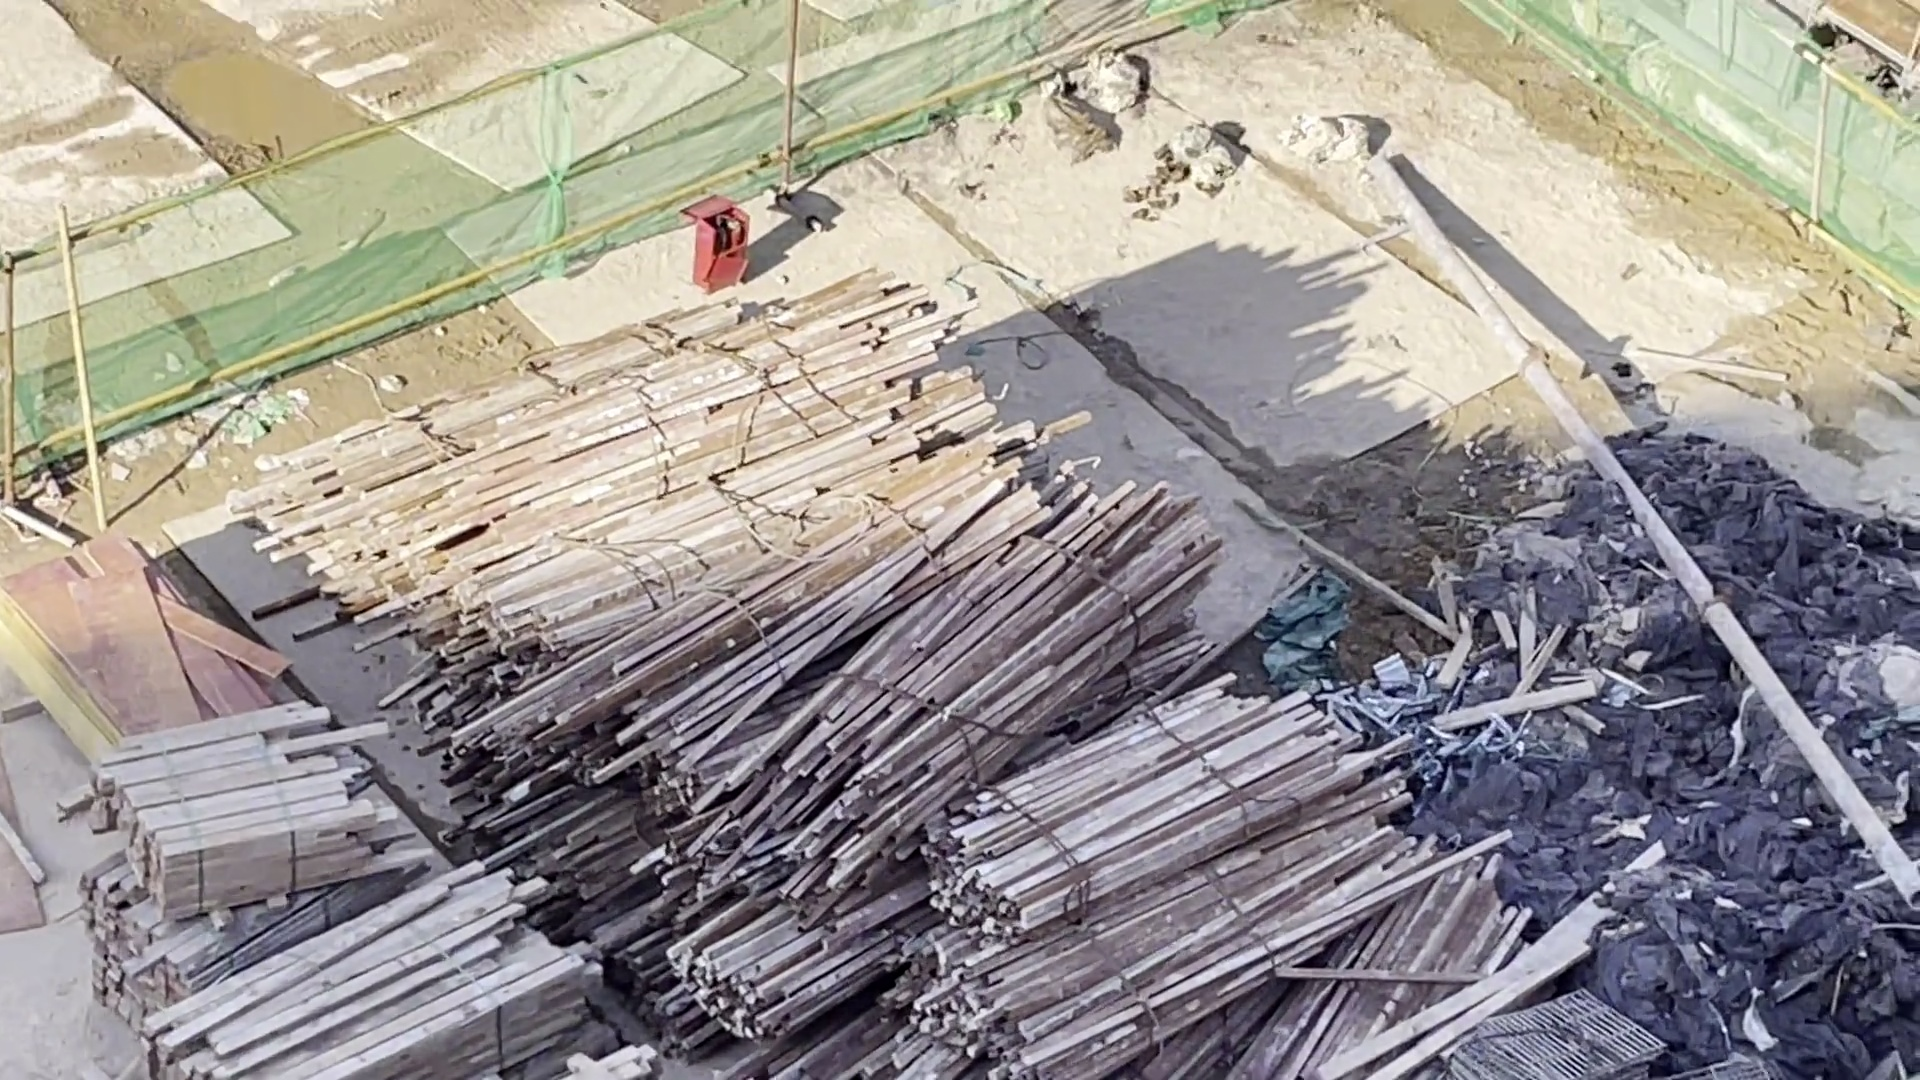board: (32, 559, 261, 732)
wood: (724, 476, 1222, 891), (327, 305, 969, 597), (233, 302, 760, 509), (953, 855, 1429, 1072), (462, 436, 907, 661), (935, 707, 1374, 894), (185, 938, 550, 1080), (83, 732, 367, 909), (671, 881, 905, 1035), (83, 909, 297, 1015)
